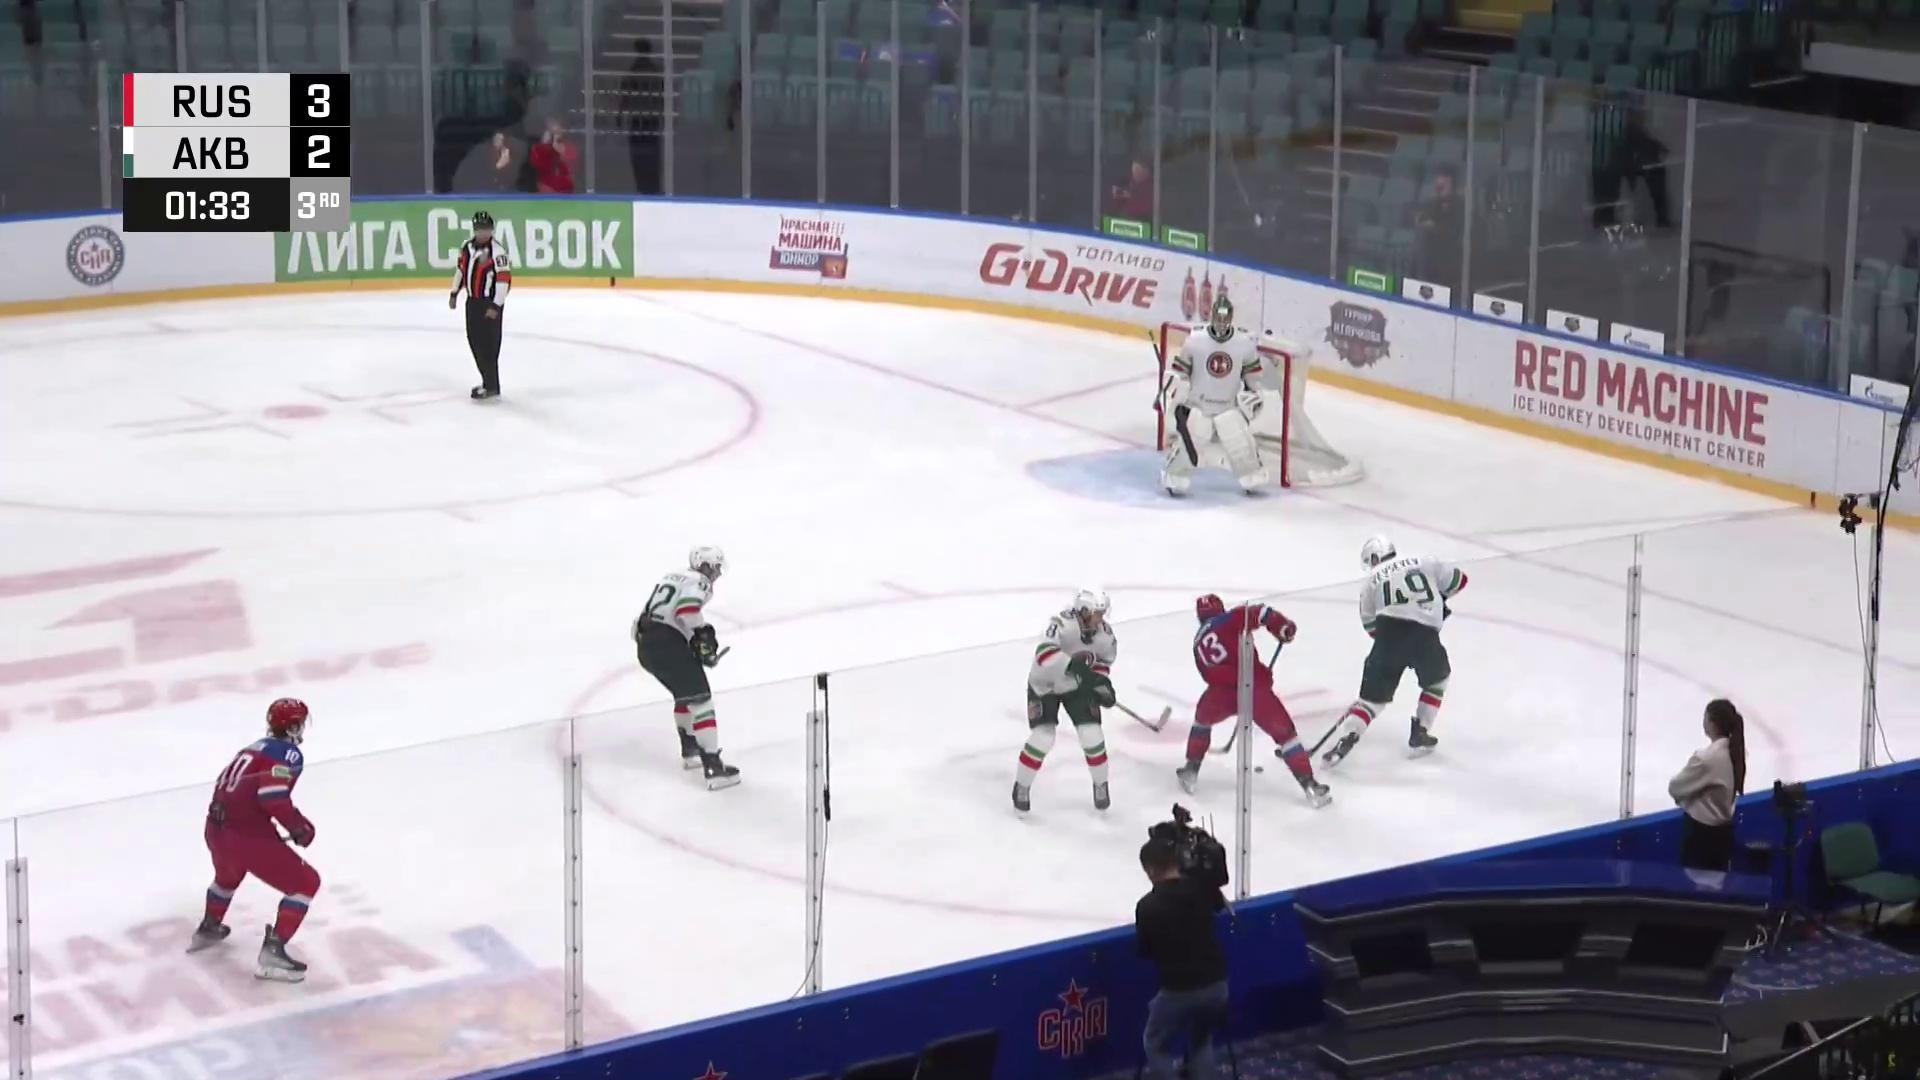ball: (1254, 766, 1265, 773)
